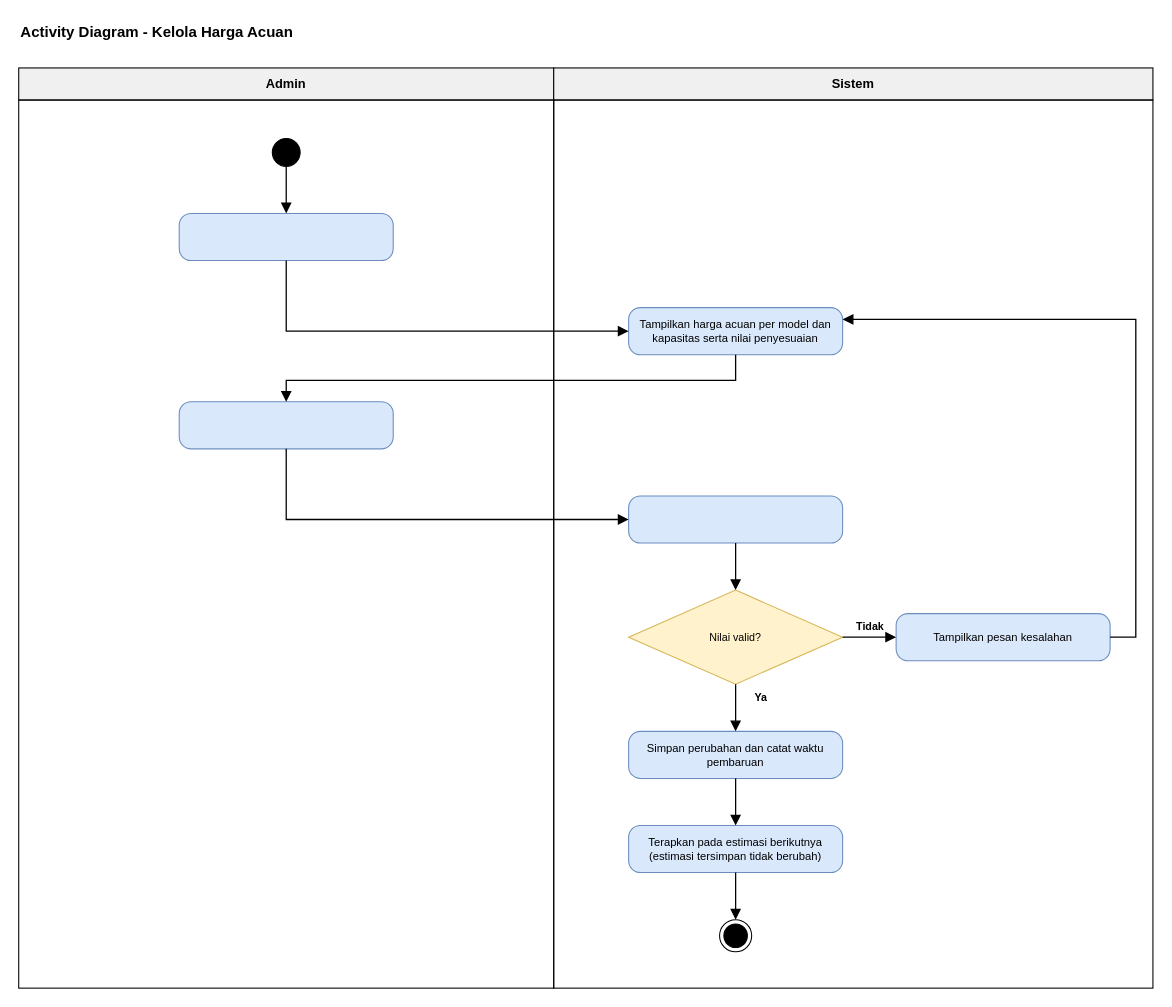
Some shapes in this 1172 by 1007 pixel diagram are drawn without their labels. Here are the shapes that lost their labels. From the top down, the centre of each, then its label:
(285,236): Buka pengelolaan harga acuan
(285,425): Ubah harga acuan atau nilai penyesuaian, lalu simpan
(735,519): Validasi nilai input
